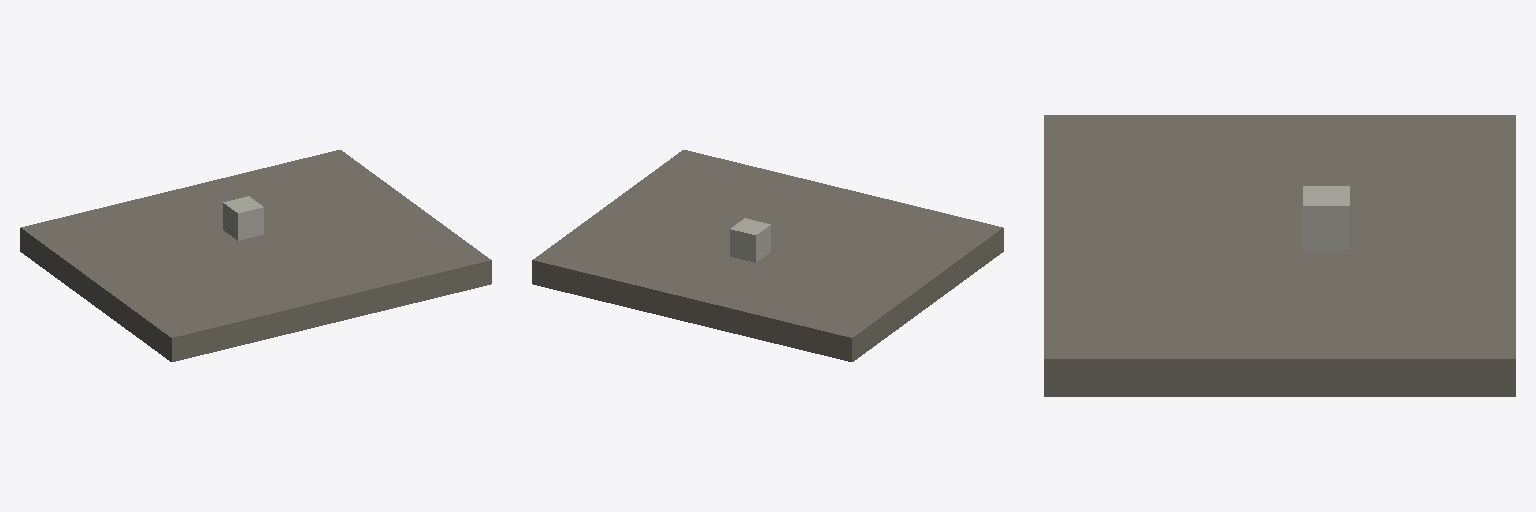
URDF robot description (parttoolgen_hammer_single_cube):
<?xml version="1.0"?>
<robot name="parttoolgen_hammer_single_cube">
  <link name="table_with_target_cube">
    <visual>
      <material name="wood">
        <color rgba="0.52 0.50 0.46 1.0"/>
      </material>
      <origin xyz="0 0 0"/>
      <geometry>
        <box size="0.55 0.45 0.04"/>
      </geometry>
    </visual>
    <collision>
      <origin xyz="0 0 0"/>
      <geometry>
        <box size="0.55 0.45 0.04"/>
      </geometry>
    </collision>

    <visual>
      <material name="target_cube">
        <color rgba="0.72 0.72 0.68 1.0"/>
      </material>
      <origin xyz="0.004405549311480572 0.044643950584596165 0.042499999999999996"/>
      <geometry>
        <box size="0.045 0.045 0.045"/>
      </geometry>
    </visual>
    <collision>
      <origin xyz="0.004405549311480572 0.044643950584596165 0.042499999999999996"/>
      <geometry>
        <box size="0.045 0.045 0.045"/>
      </geometry>
    </collision>

    <inertial>
      <mass value="500"/>
      <friction value="1.0"/>
      <inertia ixx="1000.0" ixy="0.0" ixz="0.0" iyy="1000.0" iyz="0.0" izz="1000.0"/>
    </inertial>
  </link>
</robot>

--- Render facts (derived) ---
3 views of the same robot in one strip: view 1: azimuth 30°, elevation 25°; view 2: azimuth 150°, elevation 25°; view 3: azimuth 270°, elevation 25° (orthographic).
Model parttoolgen_hammer_single_cube with 1 links and 0 joints (none), rooted at table_with_target_cube, posed all joints at 0.
Visible links, largest first — view 1: table_with_target_cube; view 2: table_with_target_cube; view 3: table_with_target_cube.
Boxes of the visible links, x1=… form: table_with_target_cube: x1=20, y1=150, x2=491, y2=361; table_with_target_cube: x1=532, y1=150, x2=1003, y2=361; table_with_target_cube: x1=1044, y1=115, x2=1515, y2=396.
Size in the robot's own frame: 0.55 by 0.45 by 0.085 metres.
Geometry: primitives only (box / cylinder / sphere), no mesh files.
